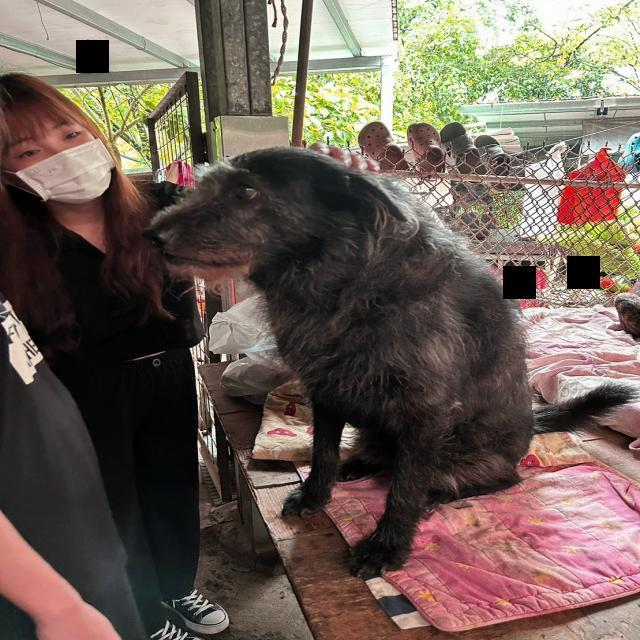adult_dog: (141, 144, 640, 578)
non-dog: (0, 71, 232, 633), (1, 258, 155, 640)
